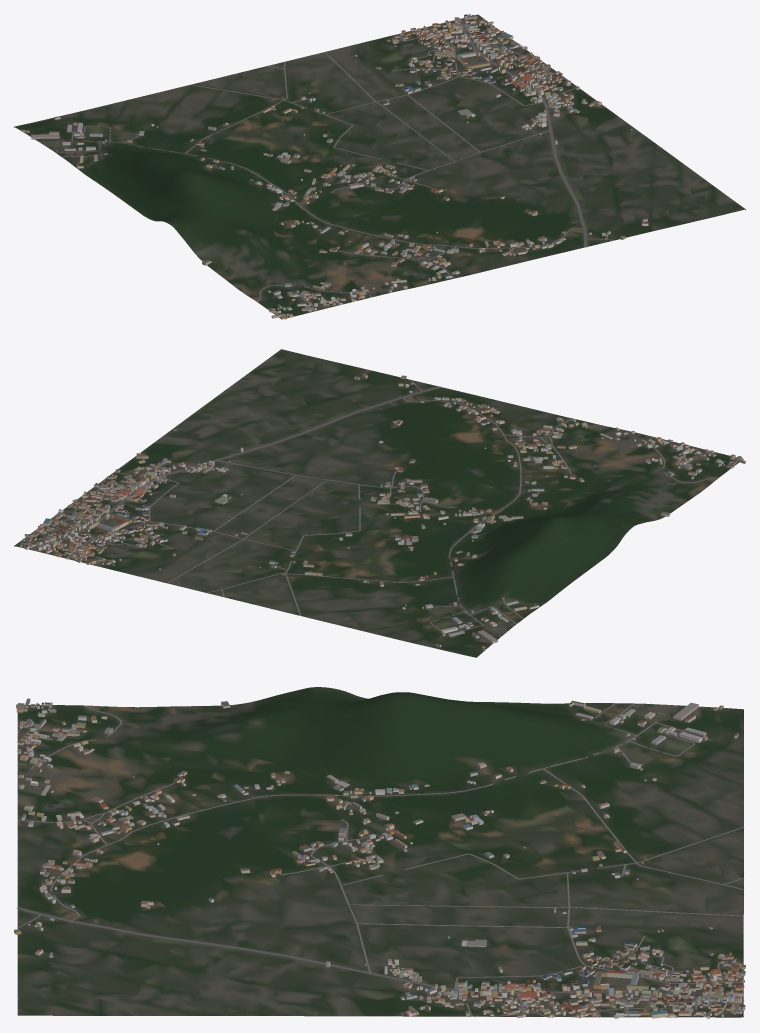
The picture shows the model from 3 angles, top to bottom: view 1: azimuth 30°, elevation 25°; view 2: azimuth 150°, elevation 25°; view 3: azimuth 270°, elevation 25°; orthographic projection. The views are drawn at different scales.
Parts seen in each view (by area): view 1: ground, buildings, roads; view 2: ground, buildings, roads; view 3: ground, buildings, roads.
Boxes of the visible parts, x1,y1,x2,y2 form: ground: (14, 14, 745, 319); buildings: (21, 14, 648, 319); roads: (39, 18, 614, 317); ground: (14, 349, 743, 657); buildings: (20, 373, 745, 651); roads: (31, 380, 719, 637); ground: (17, 687, 743, 1017); buildings: (14, 698, 745, 1018); roads: (17, 703, 743, 1017).
Bounding box in the file's own units: 1425 × 104 × 1413.
